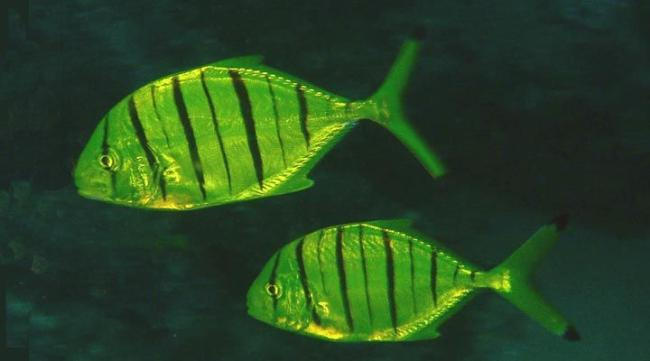fish: (72, 39, 448, 212), (245, 214, 581, 343)
